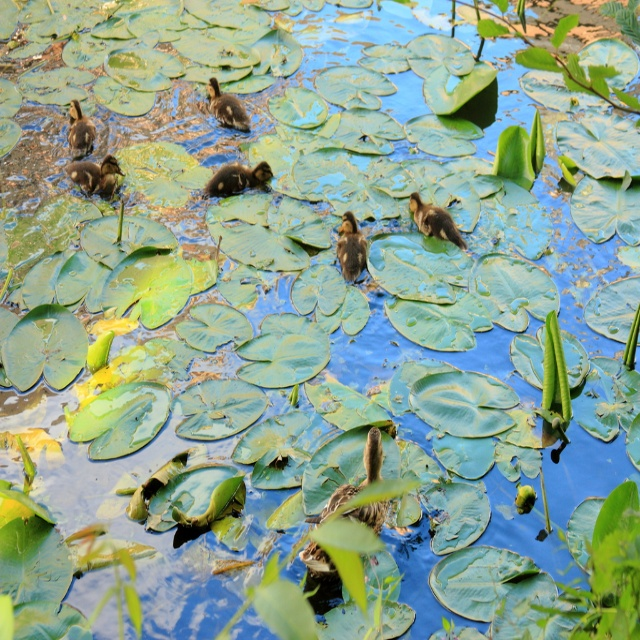Duck: (302, 428, 391, 585), (406, 194, 474, 252), (200, 144, 270, 196), (335, 207, 374, 288), (203, 73, 251, 128), (62, 100, 95, 156)
